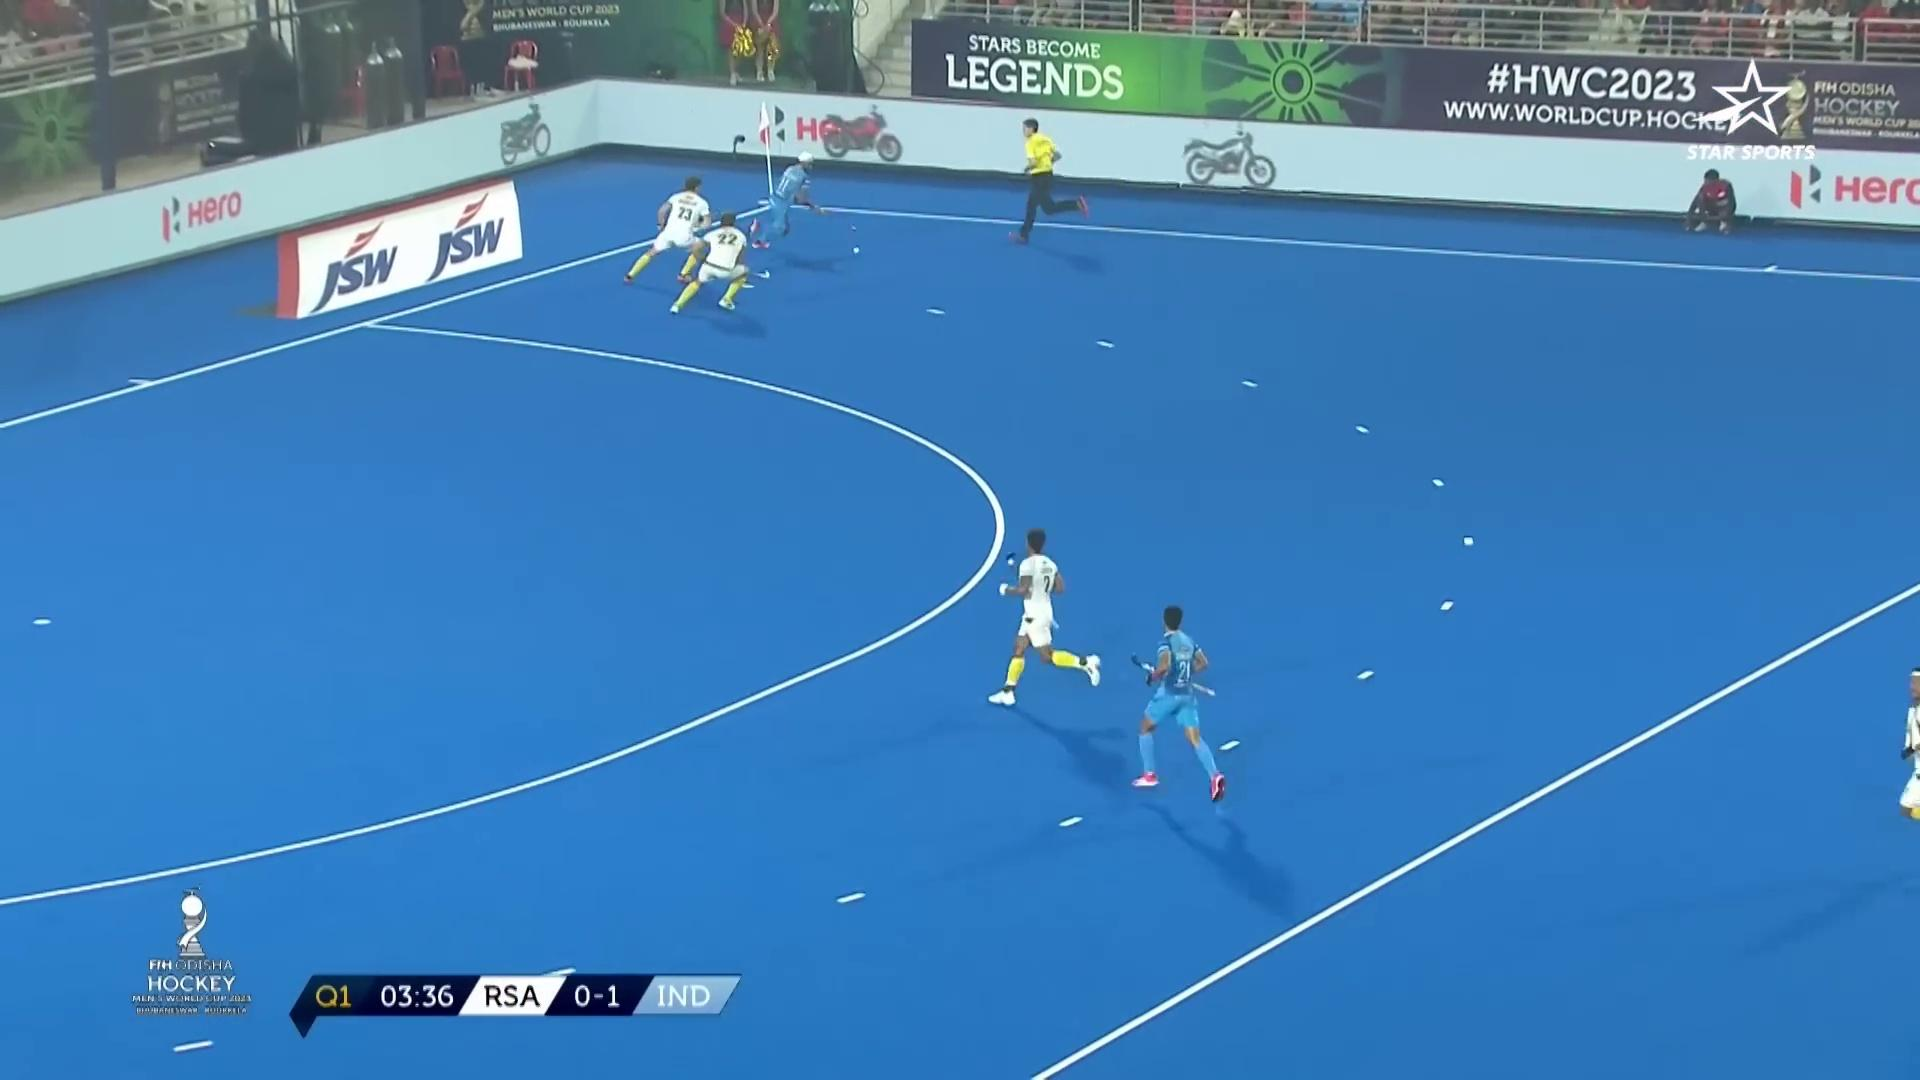ball: (849, 237, 872, 257)
